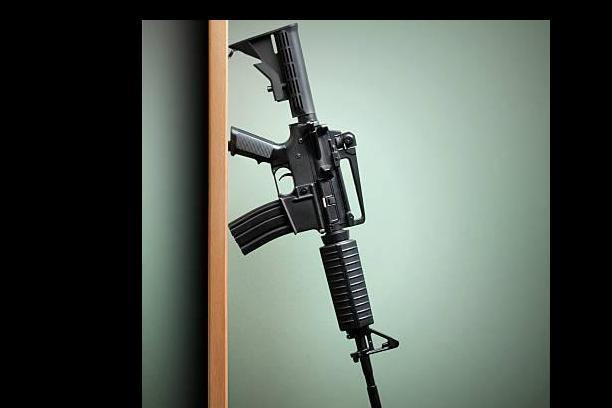larga: (226, 22, 399, 408)
